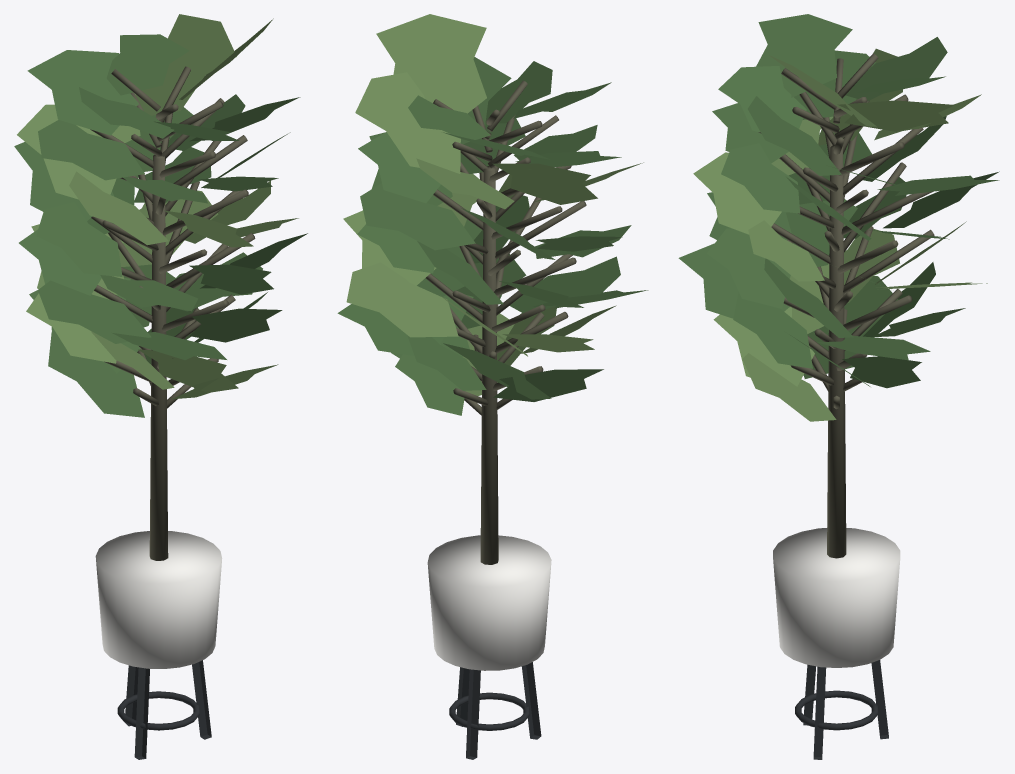
File: Dining_Fig_Tree.glb
3 views of the same model, side by side, from view 1: azimuth 30°, elevation 25°; view 2: azimuth 150°, elevation 25°; view 3: azimuth 270°, elevation 25° (orthographic). The views are drawn at different scales.
Visible parts, largest first — view 1: root; view 2: root; view 3: root.
Part boxes in pixels (<box>): root: <box>14,14,307,759</box>; root: <box>337,14,648,759</box>; root: <box>678,14,999,759</box>.
Size of the model in its own units: 0.8327 by 2.1 by 0.8557.
